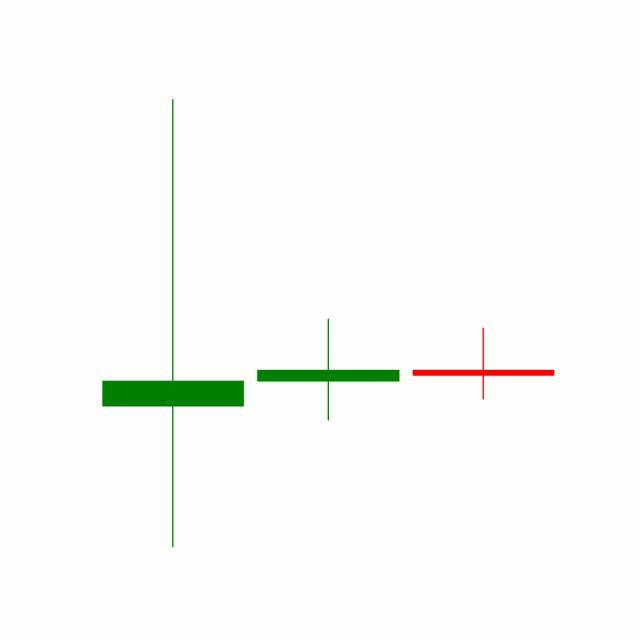Spinning Top: (406, 328, 562, 402)
